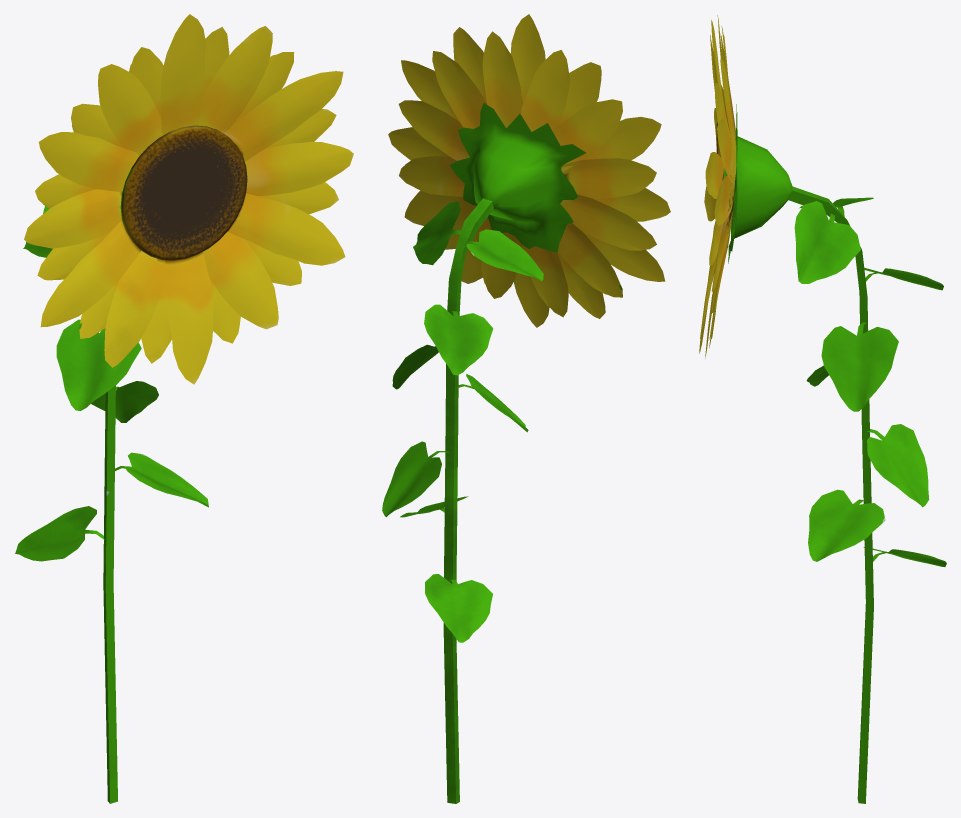
The model's file is Sunflower.fbx.
3 renders of one model, left to right at view 1: azimuth 30°, elevation 25°; view 2: azimuth 150°, elevation 25°; view 3: azimuth 270°, elevation 25°, orthographic. The views are drawn at different scales.
Parts seen in each view (by area): view 1: Sunflower; view 2: Sunflower; view 3: Sunflower.
Part boxes in pixels (x1,y1,x2,y2): Sunflower: (15,14,353,803); Sunflower: (382,14,670,803); Sunflower: (699,15,946,803).
Size of the model in its own units: 5.72 by 14.15 by 4.07.
Materials: 1 (1 with a texture image).
